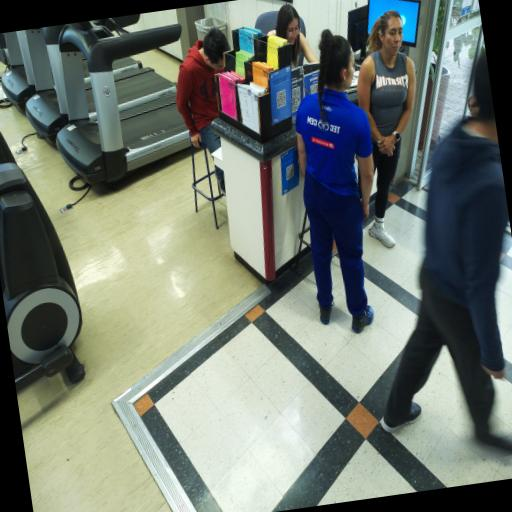person: (380, 54, 511, 452), (295, 30, 372, 333), (356, 11, 414, 247), (175, 28, 229, 152), (267, 4, 316, 67), (467, 95, 478, 116)
